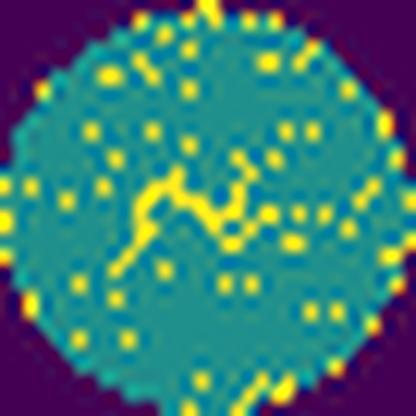Scratch: (103, 146, 284, 282)
